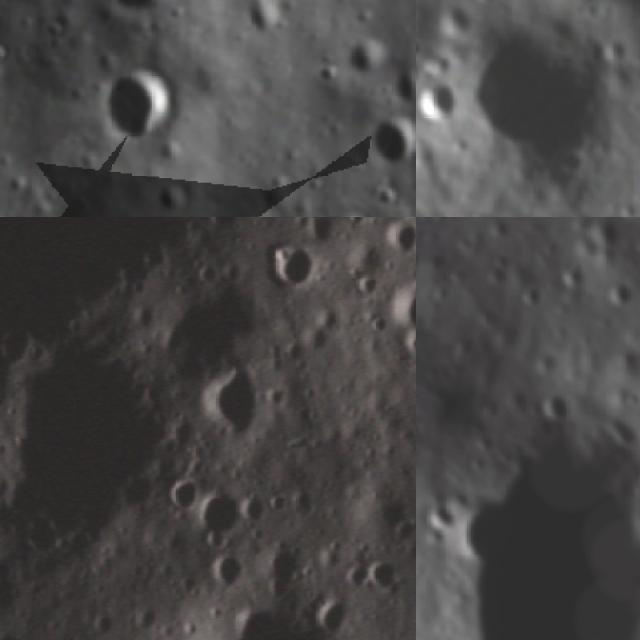crater: (416, 425, 640, 640), (0, 317, 187, 557), (454, 22, 633, 196), (191, 584, 362, 640), (92, 56, 182, 152), (184, 354, 273, 449), (188, 479, 254, 546), (255, 534, 312, 605), (262, 232, 323, 294), (416, 72, 468, 133), (366, 109, 416, 169), (431, 0, 488, 51), (358, 548, 410, 600), (308, 583, 357, 636), (347, 32, 396, 83), (160, 467, 208, 518), (202, 546, 250, 590), (148, 176, 199, 217), (0, 509, 18, 620), (379, 217, 416, 264), (126, 598, 163, 640), (286, 477, 322, 520), (583, 217, 626, 253), (346, 262, 386, 300), (296, 217, 339, 251), (81, 604, 121, 640), (386, 62, 416, 109), (600, 276, 638, 313), (538, 386, 576, 422), (390, 285, 416, 333), (516, 278, 552, 312), (264, 482, 292, 522), (390, 508, 416, 548), (324, 217, 381, 231), (317, 204, 377, 217), (401, 324, 416, 367), (0, 35, 13, 72), (0, 624, 27, 640), (407, 421, 416, 467)
